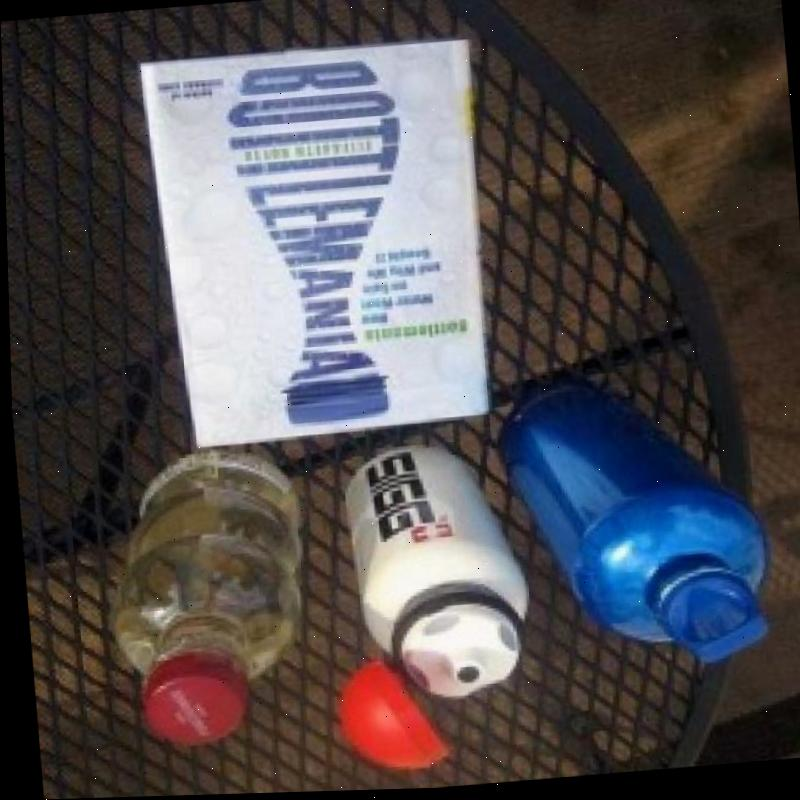botella: (96, 445, 318, 754)
